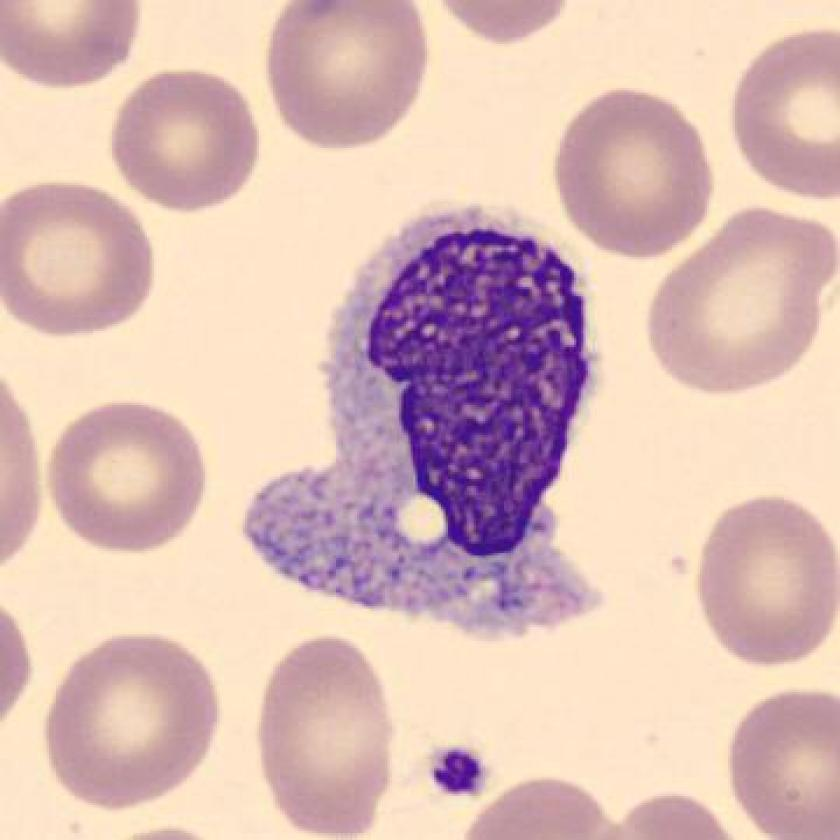monocyte: (232, 184, 636, 674)
